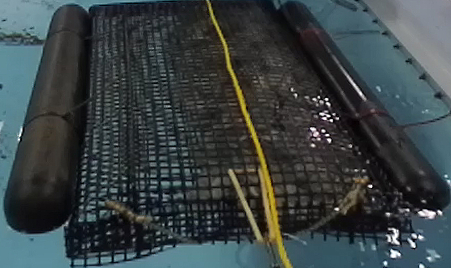bag: (3, 1, 451, 265)
